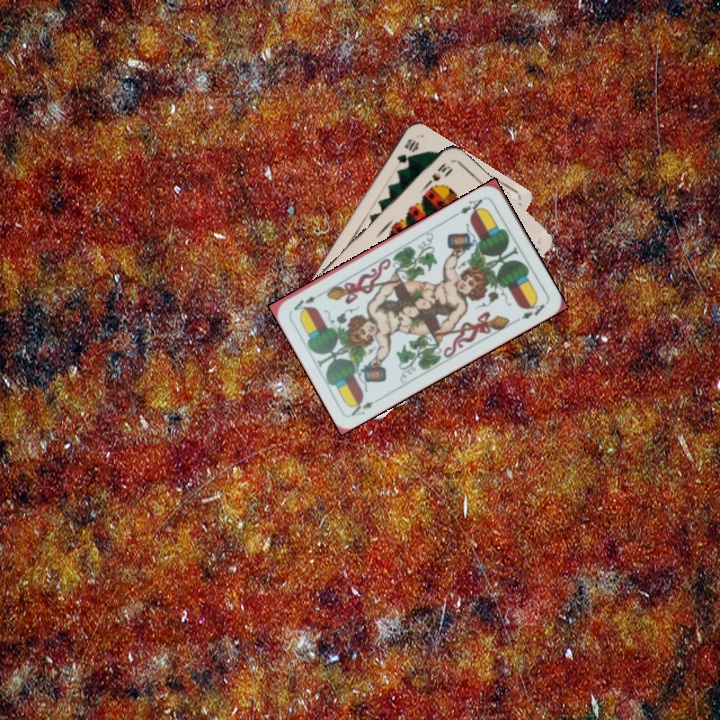EA: (346, 393, 384, 419), (451, 193, 488, 219)
G10: (392, 134, 421, 166)
S10: (422, 159, 454, 189)
